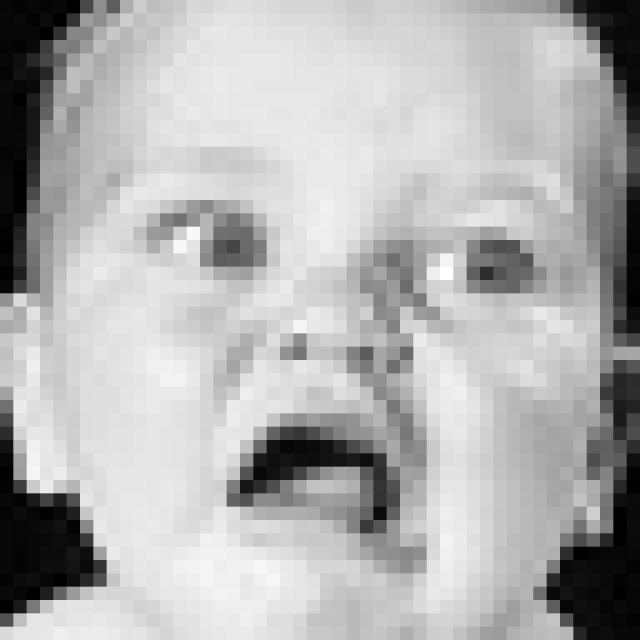disgust: (104, 148, 579, 589)
